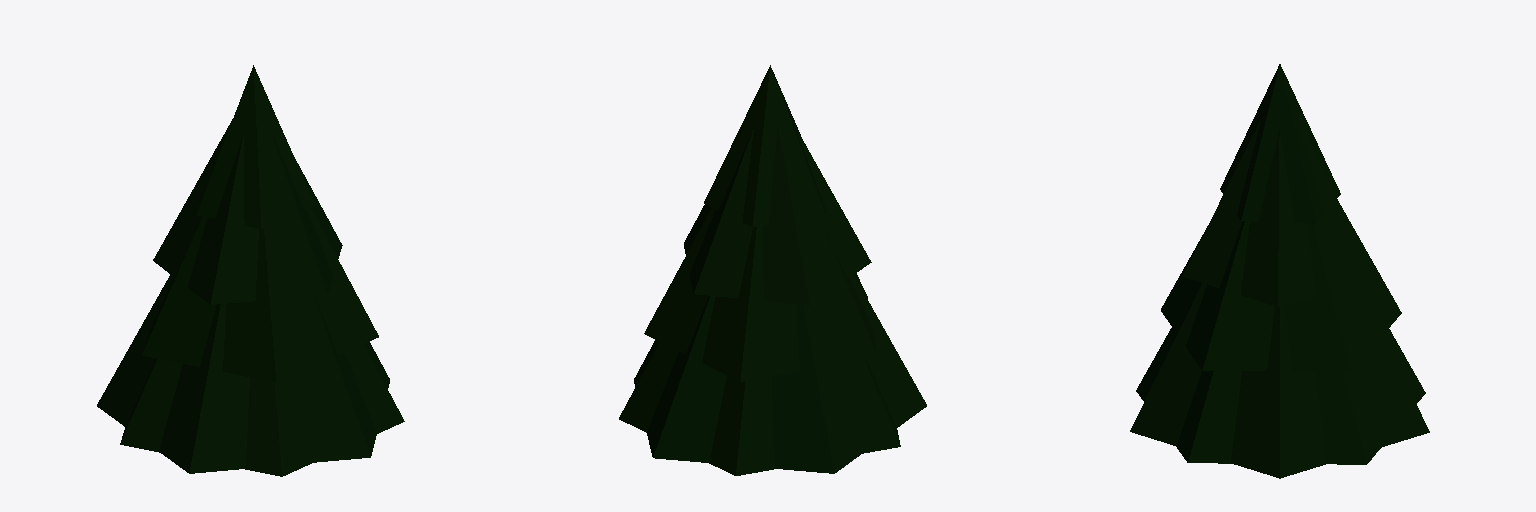
File: pine_tree.obj
3 views of the same model, side by side, from view 1: azimuth 30°, elevation 25°; view 2: azimuth 150°, elevation 25°; view 3: azimuth 270°, elevation 25° (orthographic).
Parts seen in each view (by area): view 1: pCone8; view 2: pCone8; view 3: pCone8.
Boxes of the visible parts, x1=… form: pCone8: x1=97, y1=65, x2=404, y2=476; pCone8: x1=619, y1=65, x2=926, y2=475; pCone8: x1=1130, y1=64, x2=1429, y2=478.
Size of the model in its own units: 8.08 by 10.99 by 7.82.